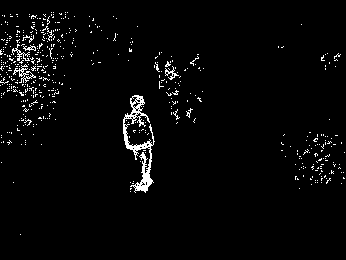person: (122, 93, 156, 194)
